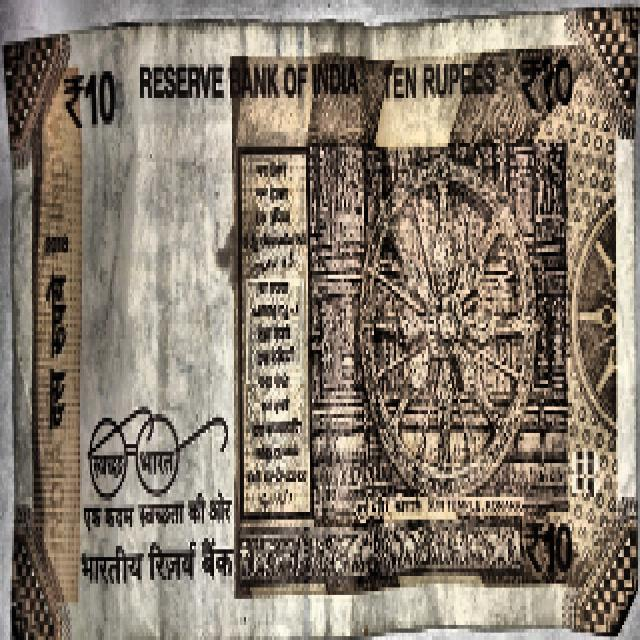-10-: (6, 26, 640, 591)
